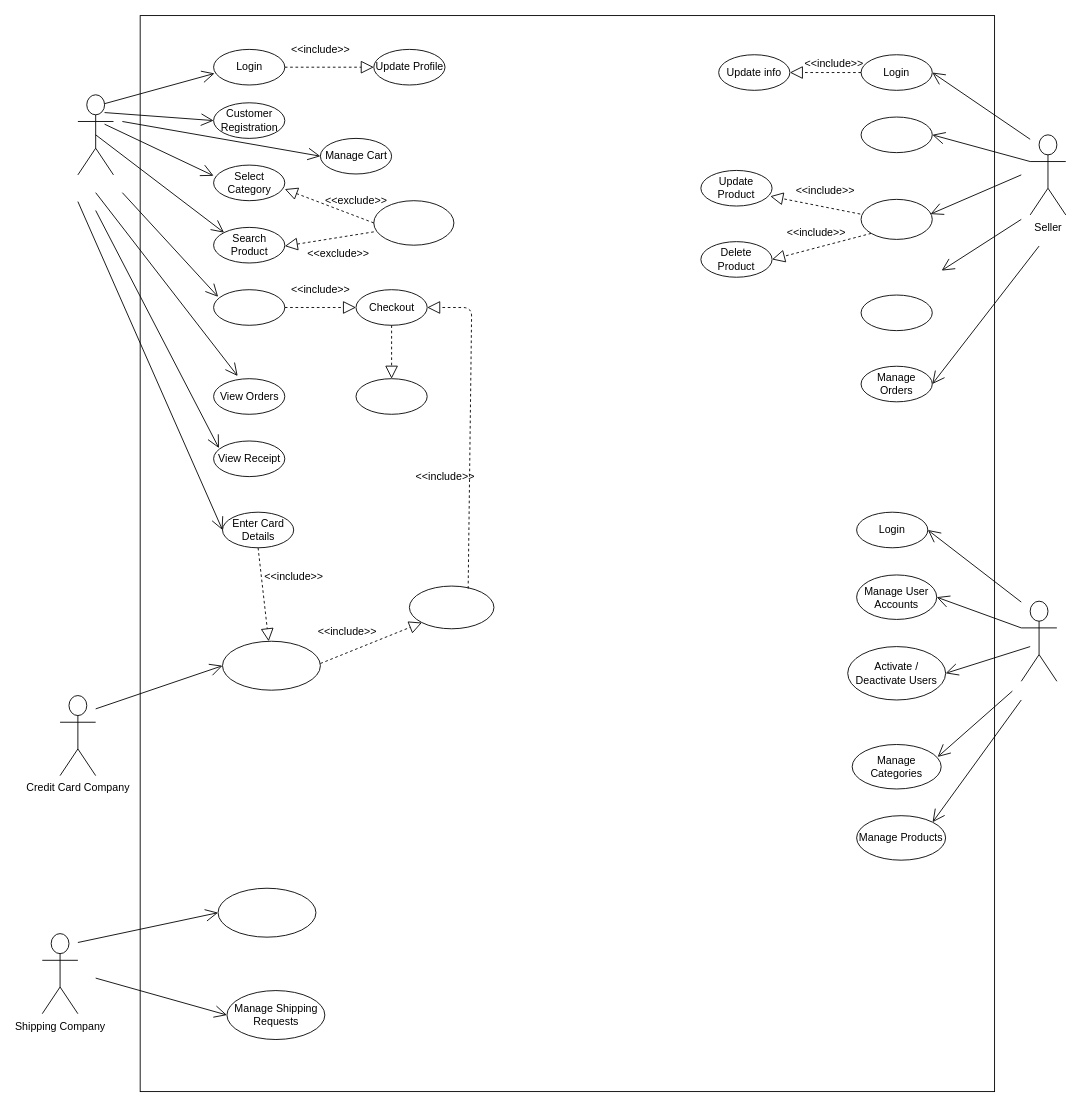
This 1081x1107 diagram has some shape labels left out. The shapes that lost their labels are listed below. From the top down, each one's centre as x and y in pixels, then its label:
At point 95,134: "Customer".
At point 896,134: "Register".
At point 413,222: "View Product Details".
At point 896,218: "Add Product".
At point 249,307: "Add to Cart".
At point 896,312: "View Order Requests".
At point 391,396: "Make Payment".
At point 451,607: "Verify Card".
At point 1038,640: "Admin".
At point 271,665: "Process Card Details".
At point 266,912: "Ship Product".
